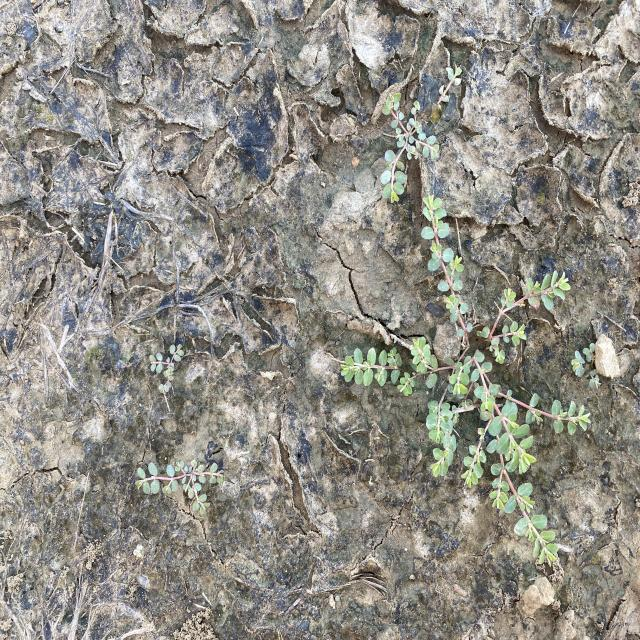SpottedSpurge: (339, 192, 593, 568), (378, 62, 464, 205), (132, 454, 227, 516), (147, 341, 186, 396)
